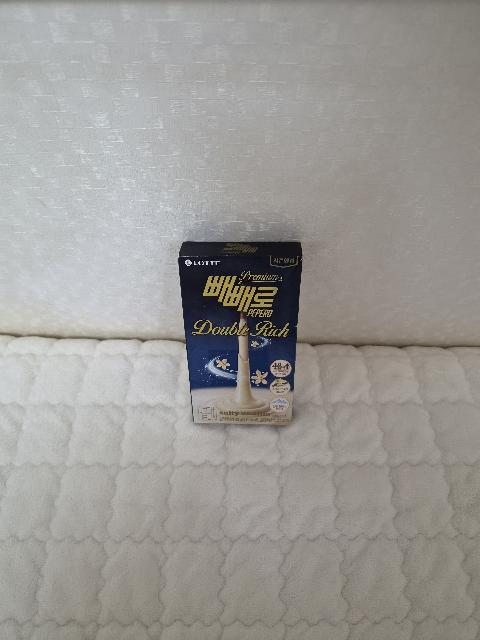pepero: (178, 242, 303, 425)
